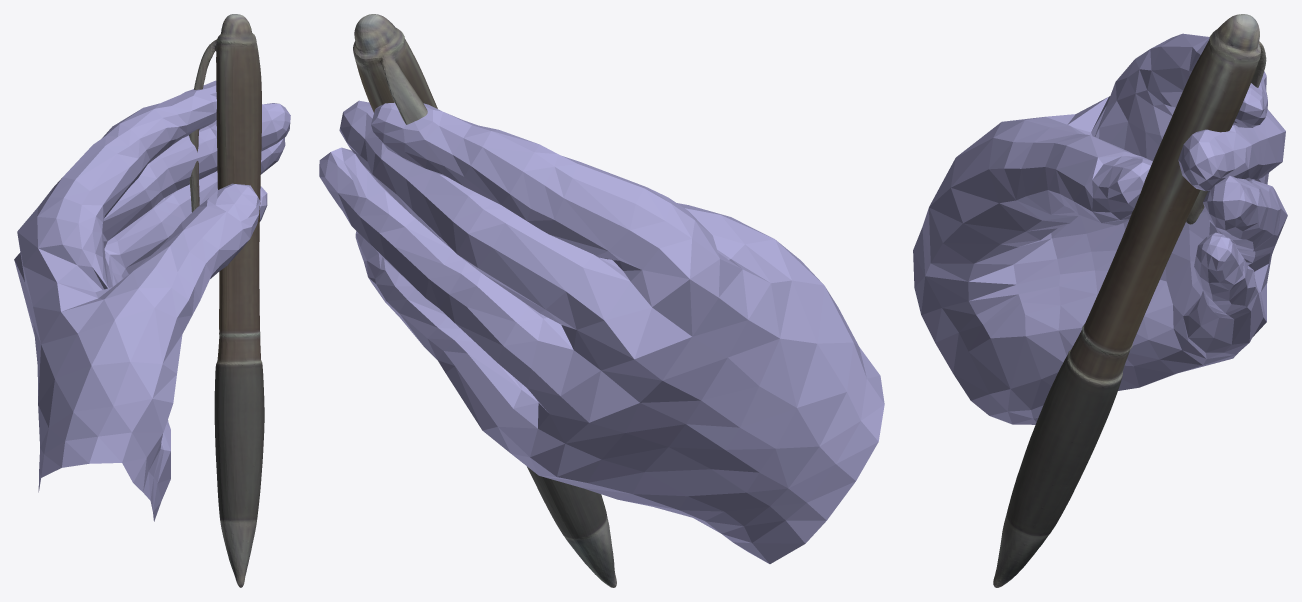
File: frame_0006_source_000006_hand_object.glb
3 views of the same model, side by side, from view 1: azimuth 30°, elevation 25°; view 2: azimuth 150°, elevation 25°; view 3: azimuth 270°, elevation 25° (orthographic). The views are drawn at different scales.
Parts seen in each view (by area): view 1: world; view 2: world; view 3: world.
Part boxes in pixels (x1,y1,x2,y2): world: (14,14,290,587); world: (319,14,884,587); world: (913,14,1287,587).
Bounding box in the file's own units: 0.1287 × 0.1779 × 0.0961.
